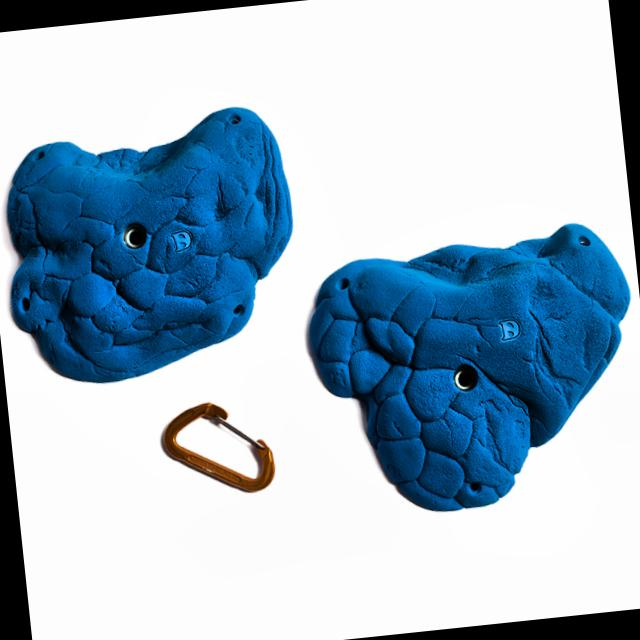Hold: (300, 218, 640, 527), (0, 98, 290, 393)
